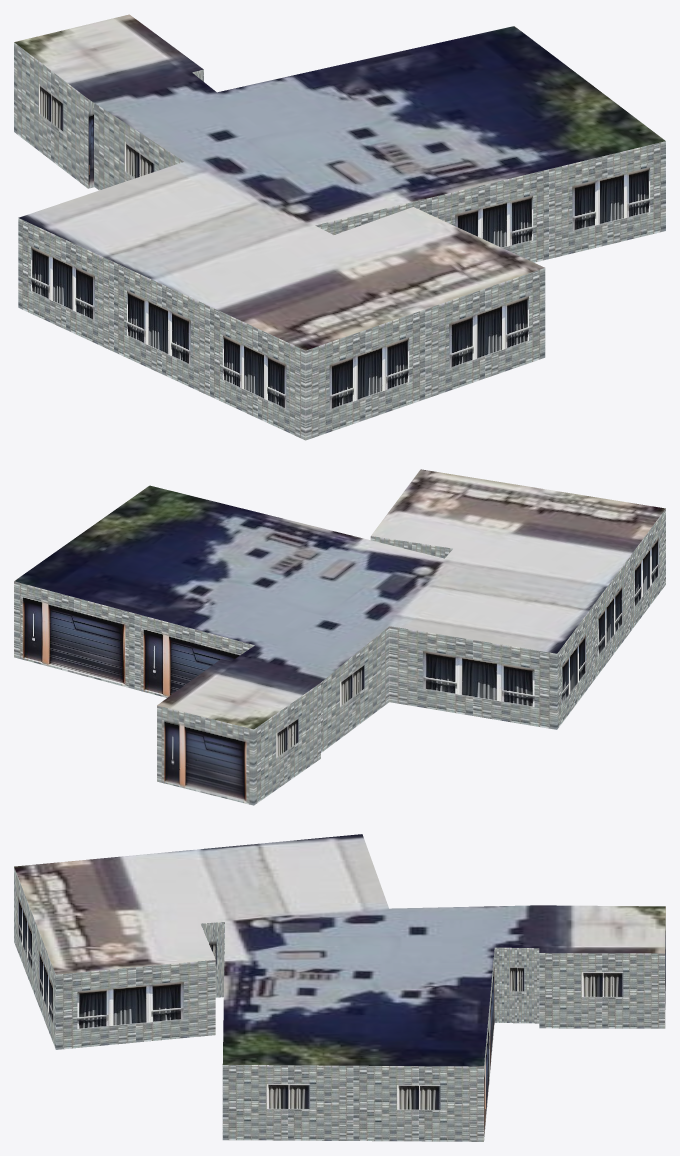
File: tile_LOD8_r1_c5.glb
3 views of the same model, one above another, from view 1: azimuth 30°, elevation 25°; view 2: azimuth 150°, elevation 25°; view 3: azimuth 270°, elevation 25° (orthographic). The views are drawn at different scales.
Bounding box in the file's own units: 25.39 × 3.83 × 30.09.
Materials: 4 (4 with a texture image).
